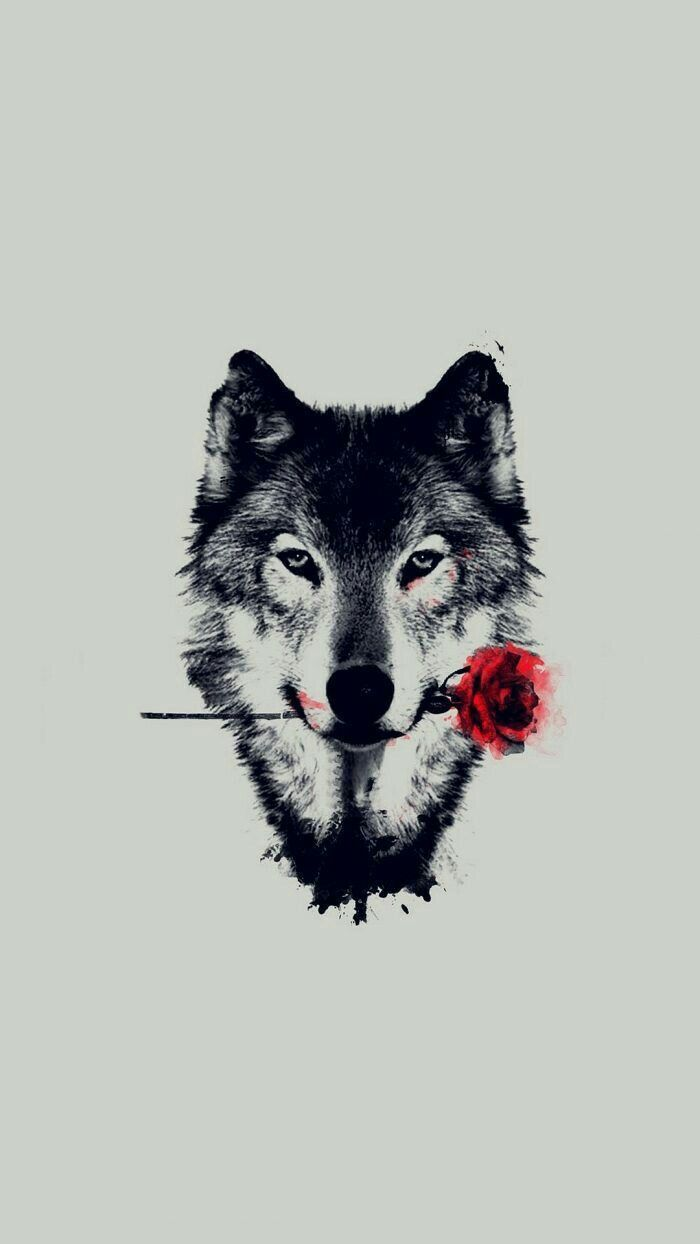Lobo: (117, 337, 591, 846)
